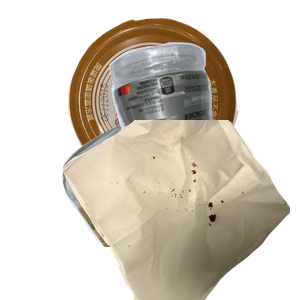glass: (60, 120, 300, 300)
metal: (66, 15, 297, 193)
plastic: (106, 40, 300, 220)
trash: (60, 120, 300, 300)
